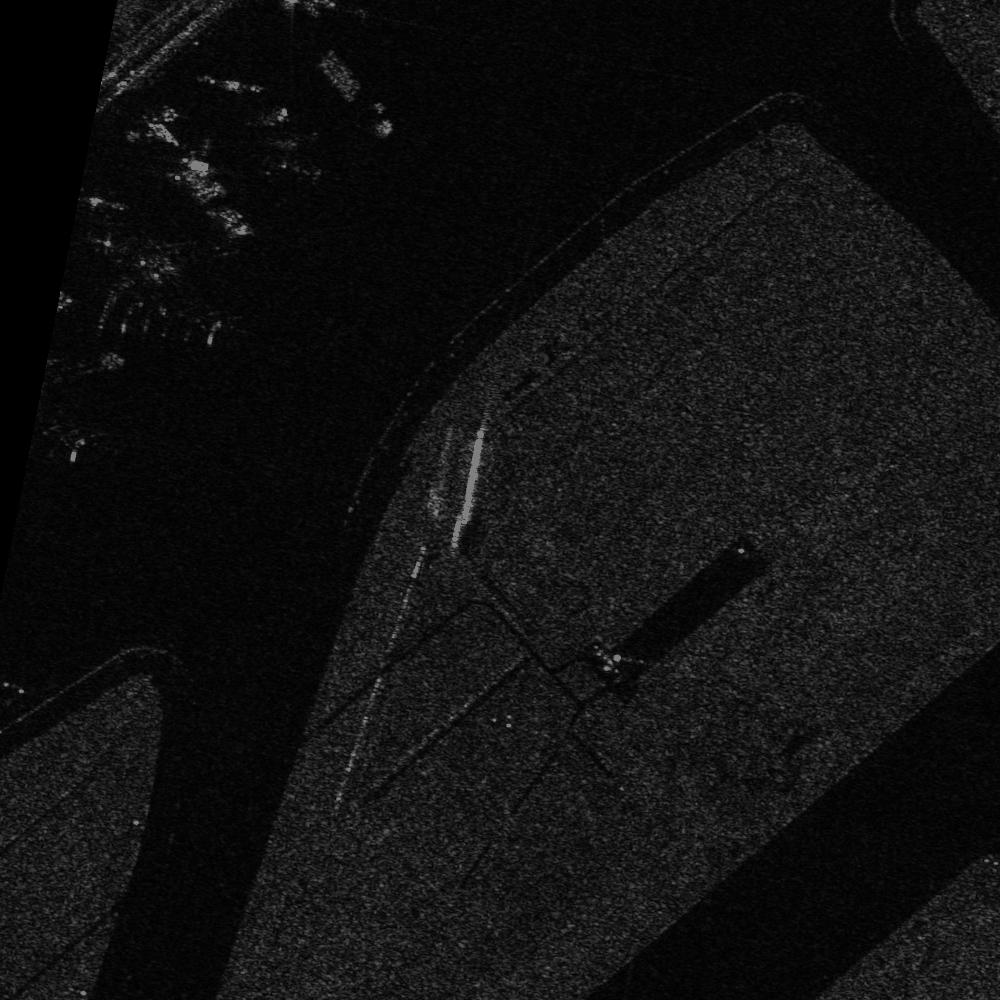Boeing787: (95, 233, 233, 347)
other: (257, 109, 331, 187)
